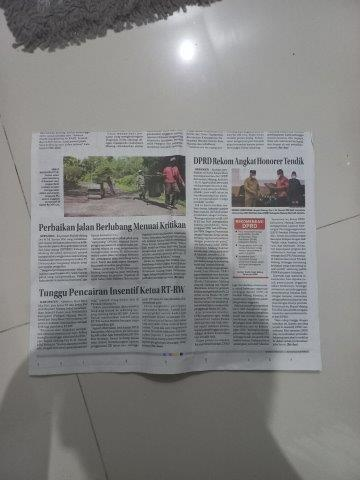kertas: (30, 133, 321, 372)
